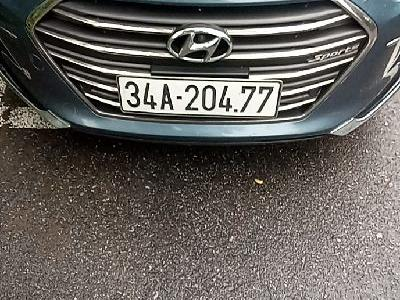lisence: (115, 74, 283, 121)
